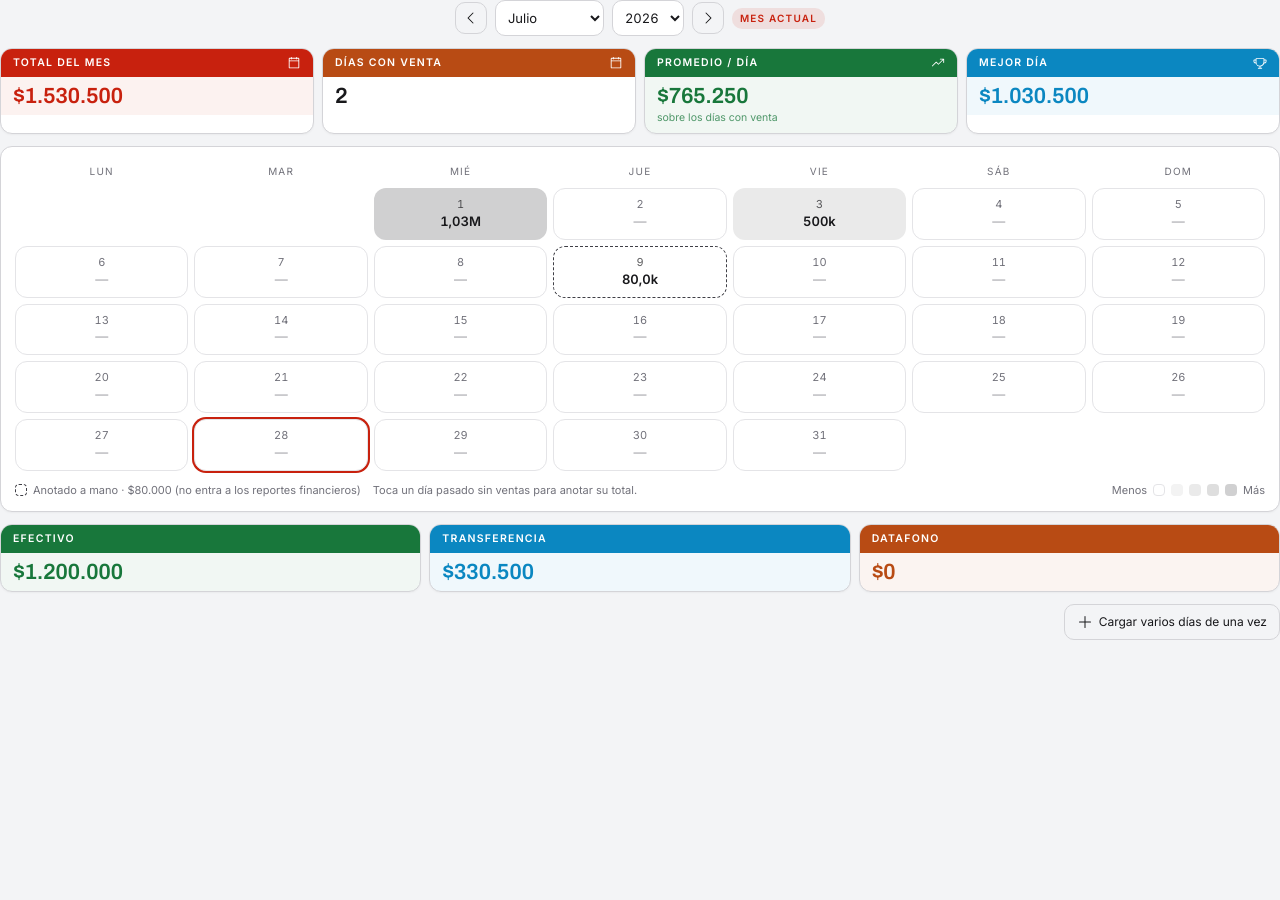
Test: VistaMes — anotar un día a mano › la carga masiva sigue disponible para el atraso de meses
The width and height of the screenshot is (1280, 900).
expect the text "1,03M" is shown: met, box [440,213,481,229]
Click the button "Cargar varios días de una vez": click(1172, 622) [1064,604,1279,640]
(page scrolled)
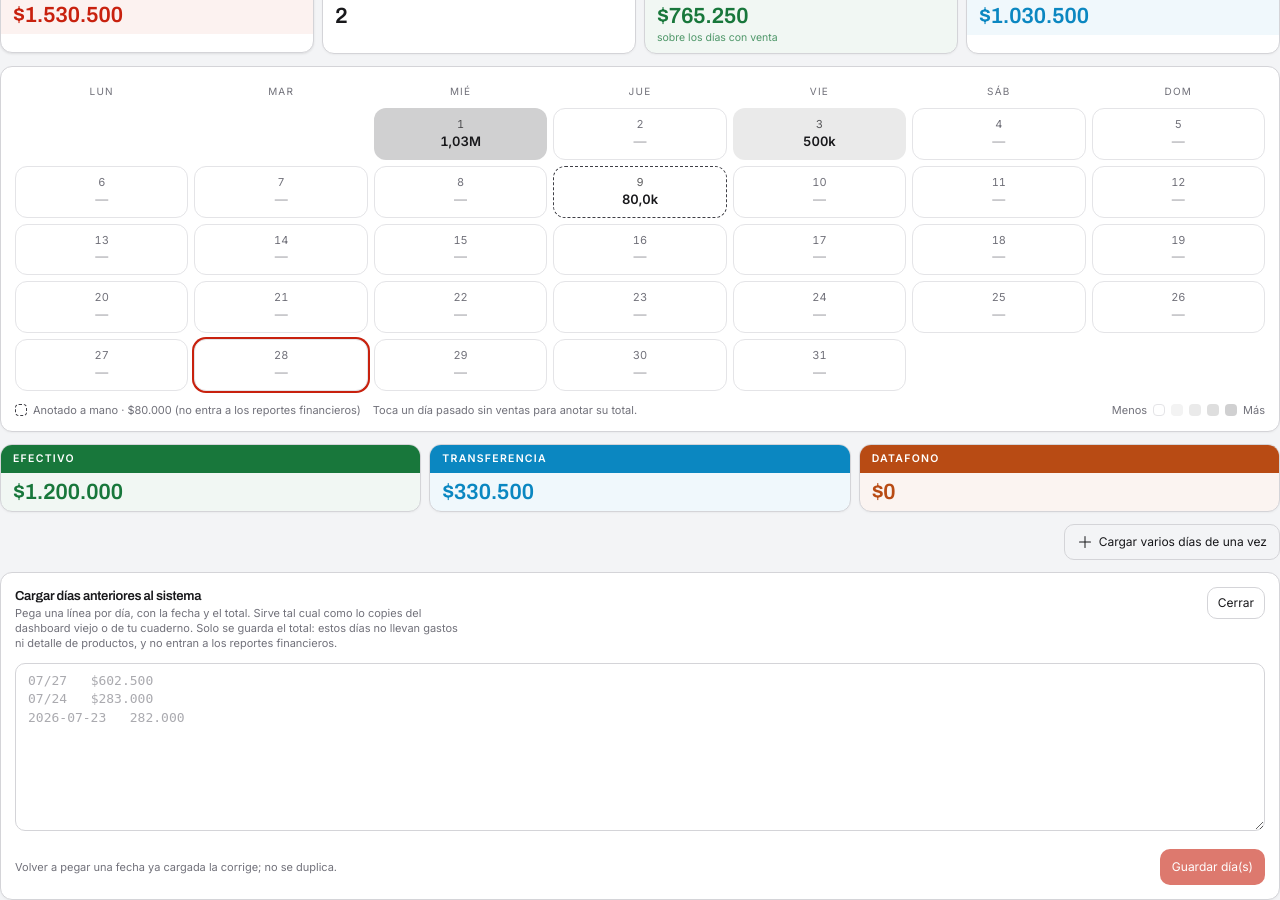
expect the text box named "Días y totales" is shown: met, box [15,663,1265,831]
